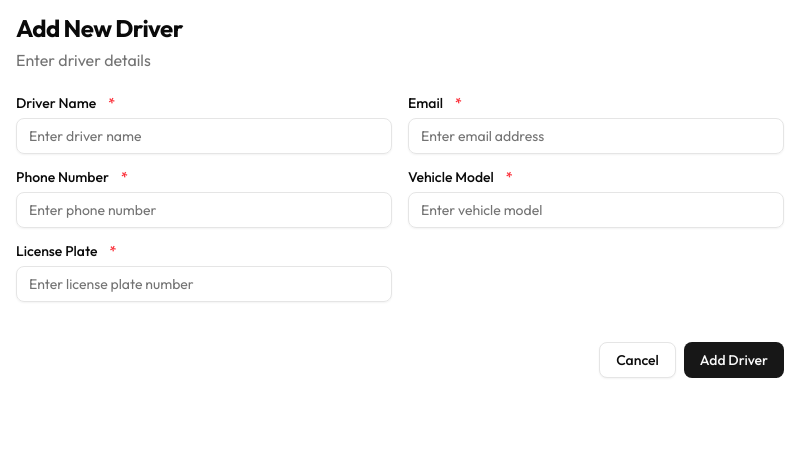
Test: DriverForm › handles network errors
Note: Fill in form fields
Type "John Doe" into the field labelled "Driver Name *" at (204, 136), box [16,118,392,154]
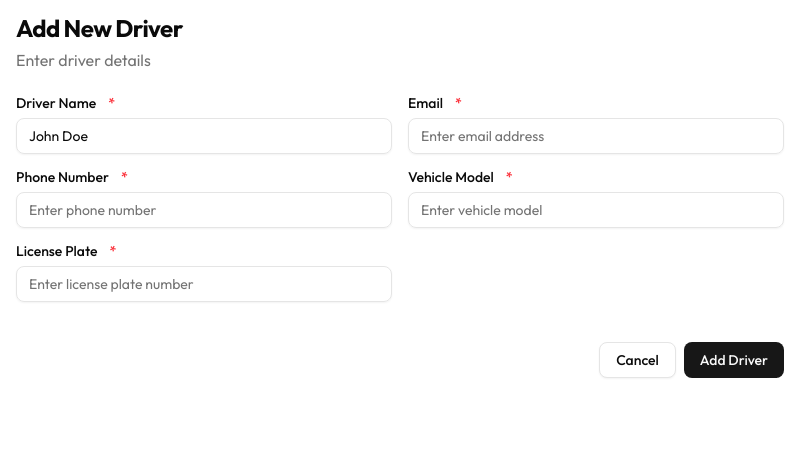
Type "john@example.com" into the field labelled "Email *" at (596, 136), box [408,118,784,154]
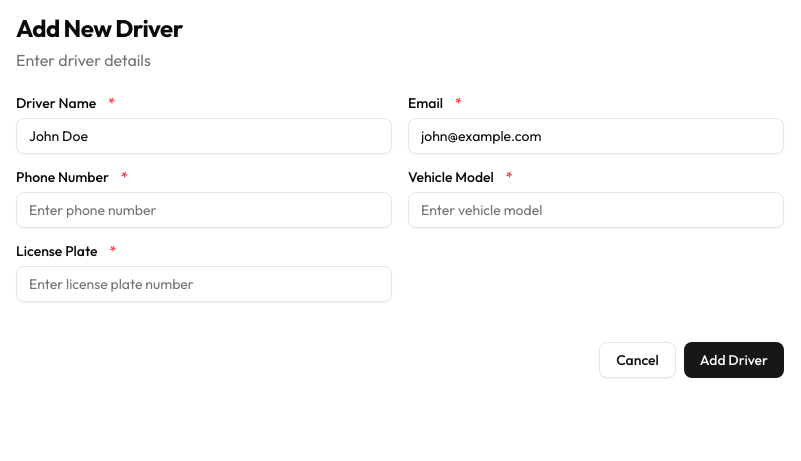
Type "1234567890" into the field labelled "Phone Number *" at (204, 210), box [16,192,392,228]
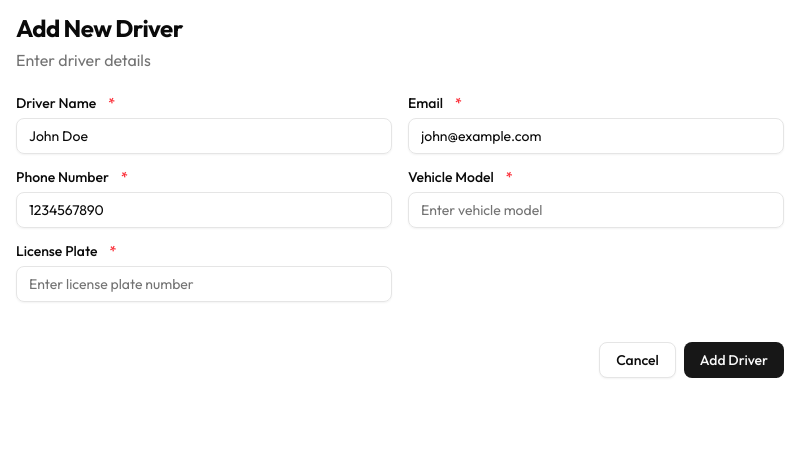
Type "Toyota Camry" into the field labelled "Vehicle Model *" at (596, 210), box [408,192,784,228]
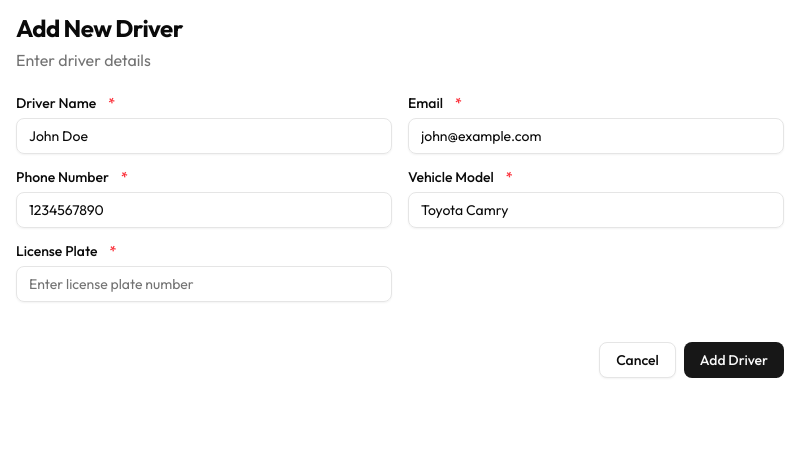
Type "ABC123" into the field labelled "License Plate *" at (204, 284), box [16,266,392,302]
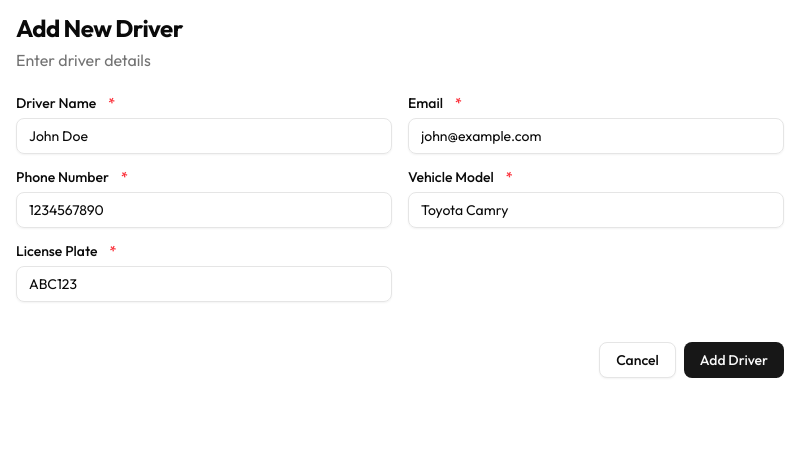
Note: Submit form
Click the button "Add Driver" at (734, 360), box [684,342,784,378]
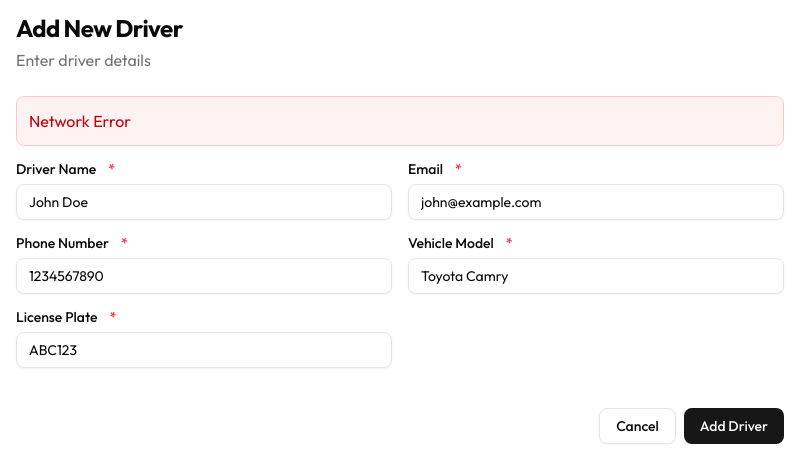
Now the text "Network Error" is shown, box [16,96,784,146]
